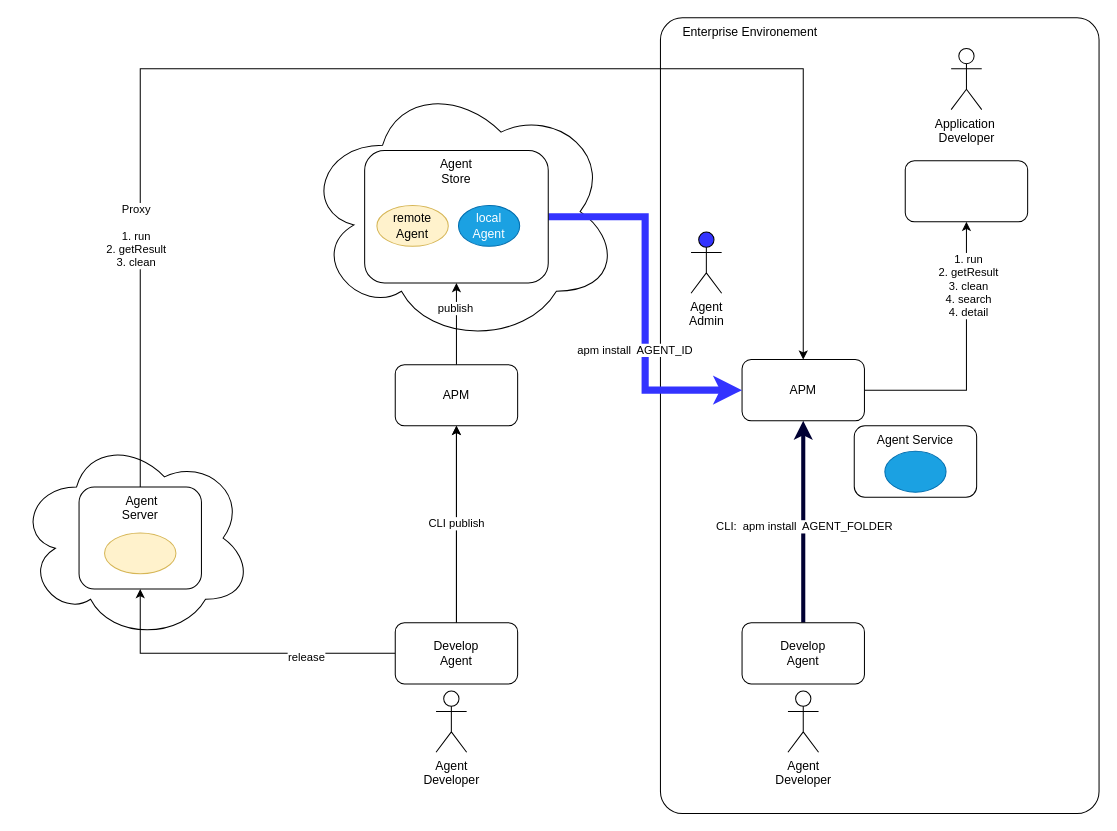
Image size: 1117x831. Some labels were removed from this diagram. The shapes that lost their labels are listed below. From the top down, each one's centre as x and y in pixels, then its label:
At point (966, 191): "Devleop Application".
At point (915, 471): "agent instance".
At point (140, 553): "remote agent instance".
